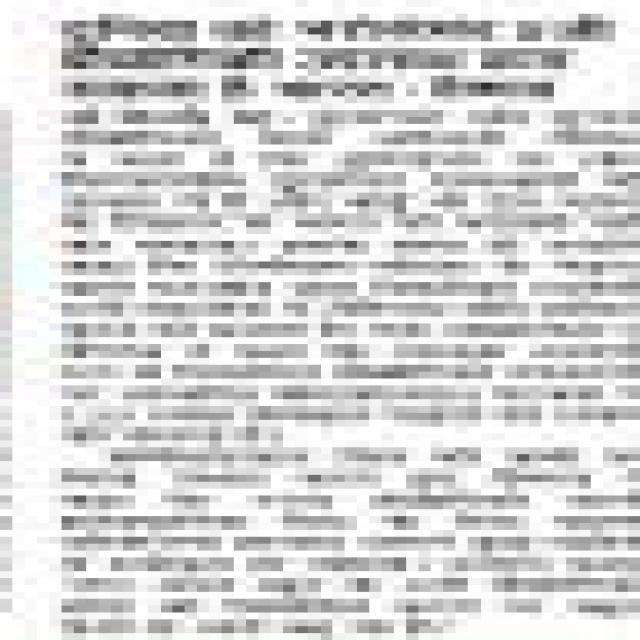paper: (12, 7, 640, 640)
